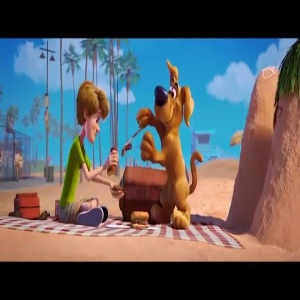Scooby: (150, 58, 199, 129)
Shagy: (69, 77, 111, 140)
